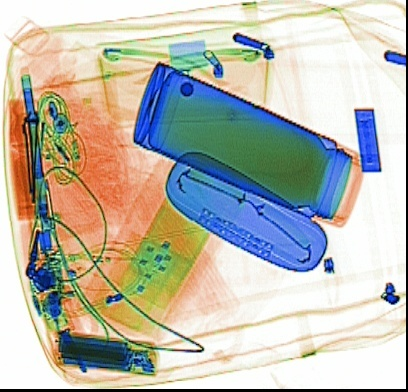powerbank: (50, 329, 158, 378)
